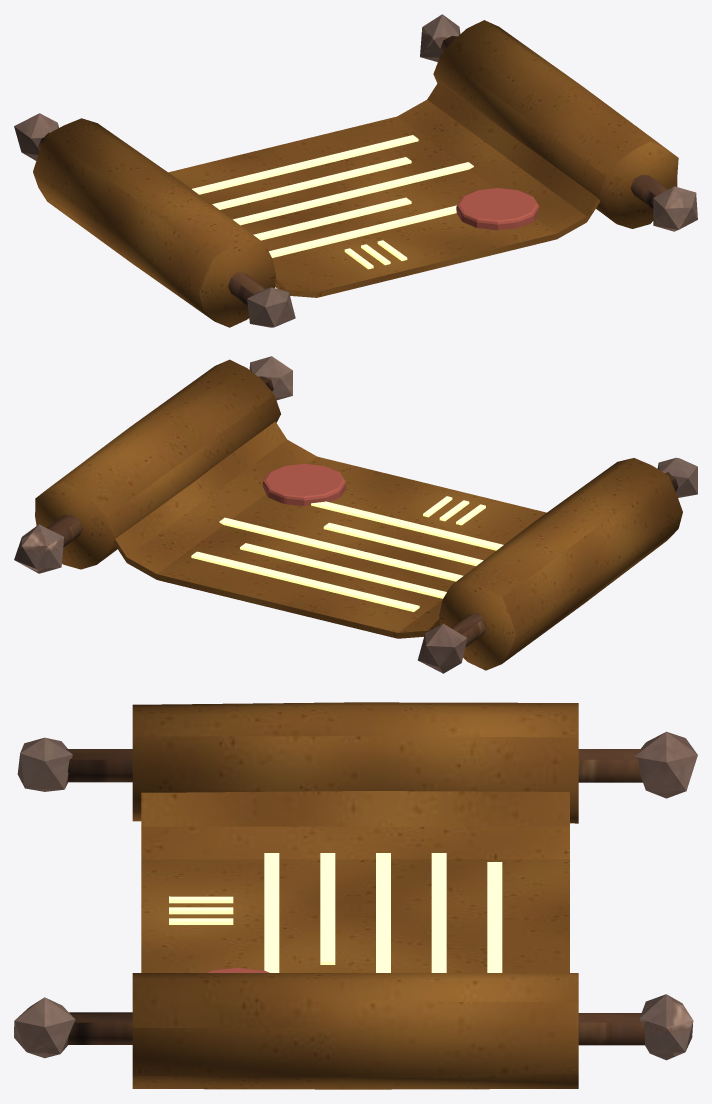
File: recipe_scroll.glb
3 renders of one model, top to bottom at view 1: azimuth 30°, elevation 25°; view 2: azimuth 150°, elevation 25°; view 3: azimuth 270°, elevation 25°, orthographic. The views are drawn at different scales.
Parts seen in each view (by area): view 1: model; view 2: model; view 3: model.
Part boxes in pixels (x1=…): model: x1=14, y1=14, x2=697, y2=327; model: x1=14, y1=356, x2=697, y2=673; model: x1=14, y1=702, x2=697, y2=1089.
Bounding box in the file's own units: 0.3464 × 0.0594 × 0.3191.
Materials: 6 (4 with a texture image).
